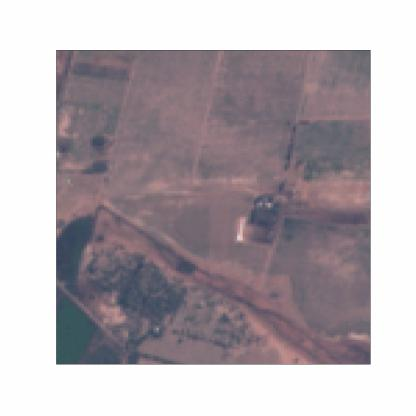silobolsa: (236, 216, 245, 242)
